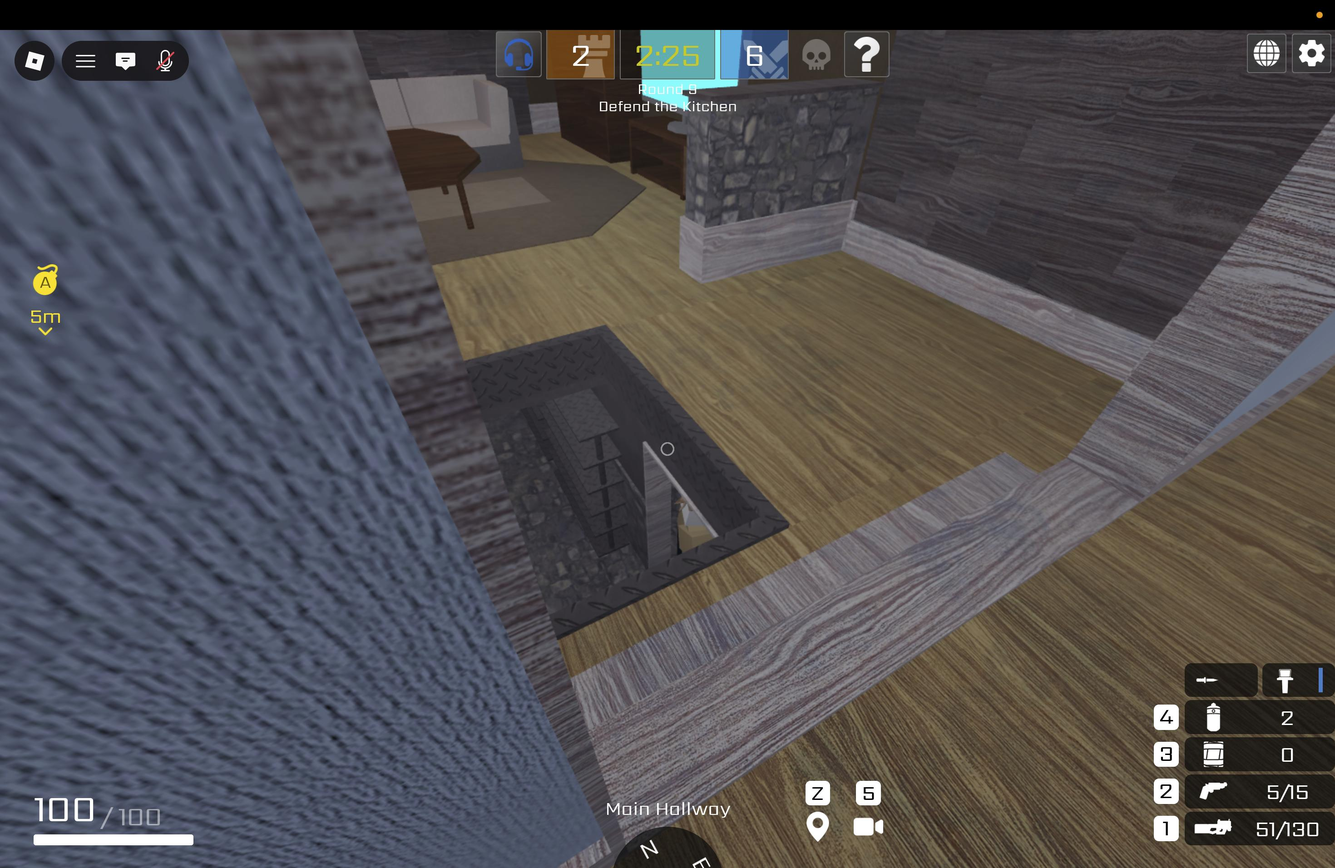enemy: (669, 495, 717, 558)
